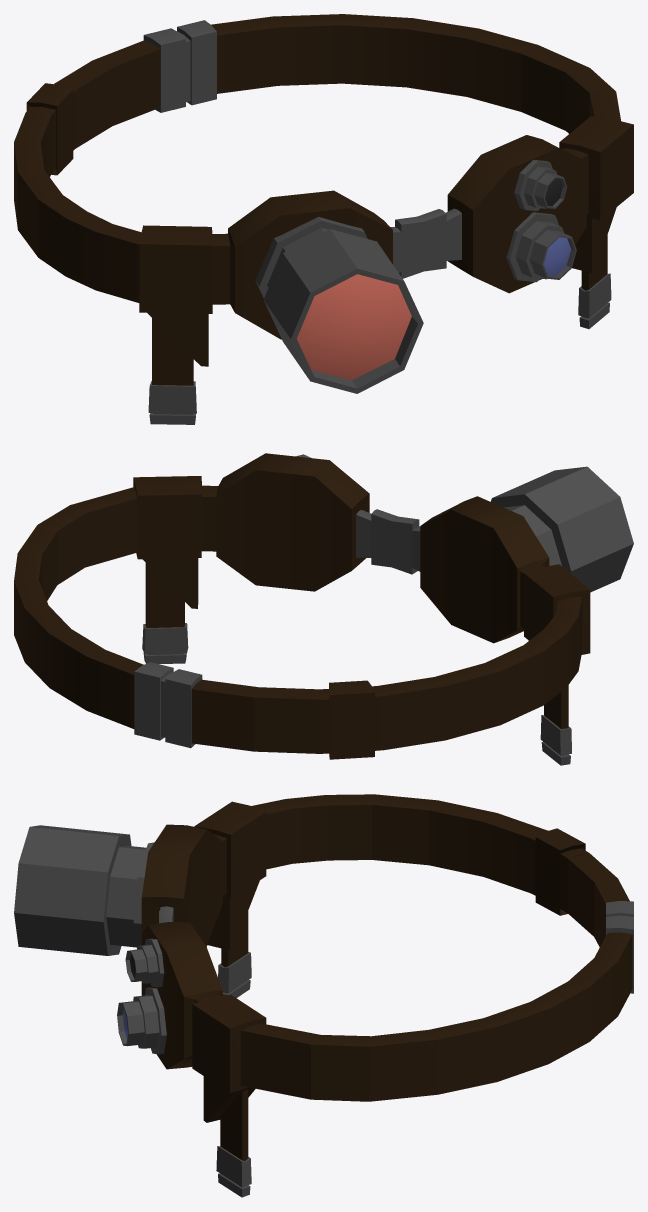
File: J&DGoggles.fbx
3 views of the same model, one above another, from view 1: azimuth 30°, elevation 25°; view 2: azimuth 150°, elevation 25°; view 3: azimuth 270°, elevation 25° (orthographic). The views are drawn at different scales.
Visible parts, largest first — view 1: pCube3, RedReticle, BlueReticle, BlackReticle; view 2: pCube3, RedReticle; view 3: pCube3, RedReticle, BlueReticle, BlackReticle.
Boxes of the visible parts, x1,y1,x2,y2 form: pCube3: (14,14,633,424); RedReticle: (255,217,423,393); BlueReticle: (506,212,576,282); BlackReticle: (514,159,566,210); pCube3: (14,453,590,765); RedReticle: (490,466,633,592); pCube3: (141,794,633,1197); RedReticle: (14,825,154,955); BlueReticle: (117,987,166,1054); BlackReticle: (125,938,164,987).
Bounding box in the file's own units: 84.52 × 32.06 × 87.73.
